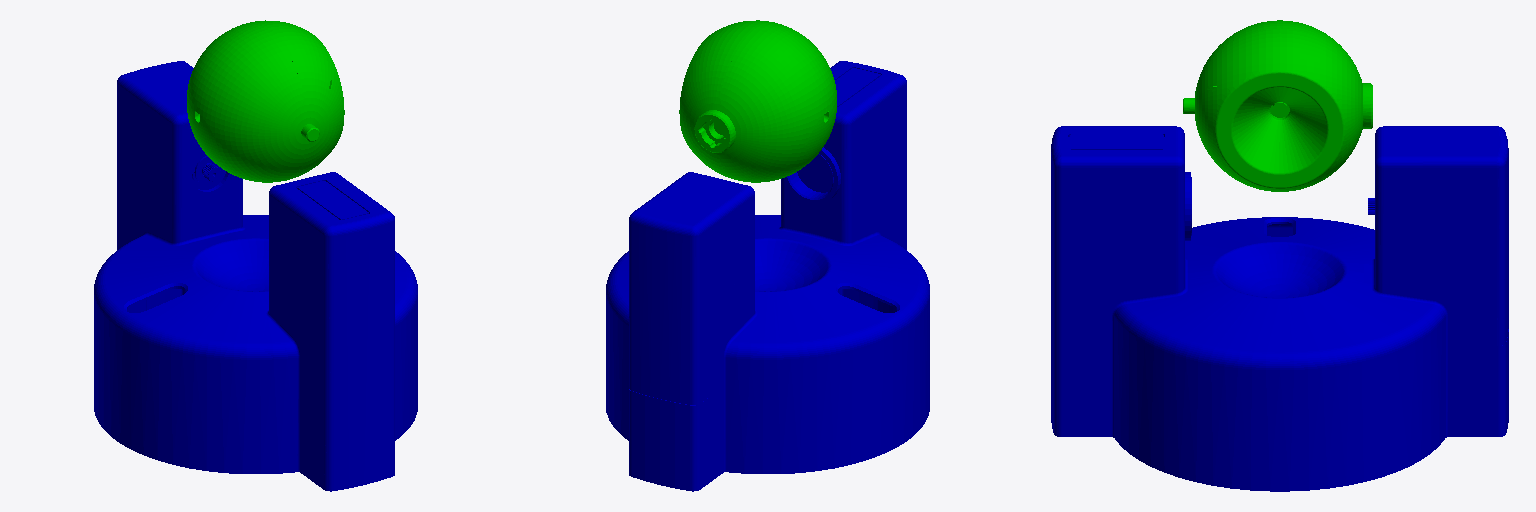
The robot description file, URDF, robot "myrobot":
<?xml version="1.0" ?>
<!-- =================================================================================== -->
<!-- |    This document was autogenerated by xacro from myrobot.xacro                  | -->
<!-- |    EDITING THIS FILE BY HAND IS NOT RECOMMENDED                                 | -->
<!-- =================================================================================== -->
<robot name="myrobot" xmlns:xacro="http://ros.org/wiki/xacro">
  <material name="blue">
    <color rgba="0 0 .8 1"/>
  </material>
  <material name="red">
    <color rgba=".8 0 0 1"/>
  </material>
  <material name="green">
    <color rgba="0 .8 0 1"/>
  </material>
  <link name="base_link">
    <visual>
      <origin rpy="0 0 0" xyz="0 0 0"/>
      <geometry>
        <mesh filename="package://lookat_description/urdf/meshes/base_link.stl" scale="0.01 0.01 0.01"/>
      </geometry>
      <material name="red"/>
    </visual>
    <collision>
      <origin rpy="0 0 0" xyz="0 0 0.275"/>
      <geometry>
        <box size="0.8 0.5 0.55"/>
      </geometry>
    </collision>
    <inertial>
      <mass value="10"/>
      <origin xyz="0 0 0"/>
      <inertia ixx="1.0" ixy="0.0" ixz="0.0" iyy="1.0" iyz="0.0" izz="1.0"/>
    </inertial>
  </link>
  <joint name="joint_pan" type="revolute">
    <parent link="base_link"/>
    <child link="pan_link"/>
    <origin rpy="0 0 0" xyz="0 0 0.6"/>
    <axis xyz="0 0 1"/>
    <limit effort="10" lower="-1.57" upper="1.57" velocity="0.5"/>
    <dynamics damping="0.7"/>
  </joint>
  <link name="pan_link">
    <visual>
      <origin rpy="0 0 0" xyz="0 0 -0.05"/>
      <geometry>
        <mesh filename="package://lookat_description/urdf/meshes/pan_link.stl" scale="0.01 0.01 0.01"/>
      </geometry>
      <material name="blue"/>
    </visual>
    <collision>
      <origin rpy="0 0 0" xyz="0 0 0.25"/>
      <geometry>
        <box size="0.9 0.5 0.6"/>
      </geometry>
    </collision>
    <inertial>
      <mass value="10"/>
      <origin xyz="0 0 0"/>
      <inertia ixx="1.0" ixy="0.0" ixz="0.0" iyy="1.0" iyz="0.0" izz="1.0"/>
    </inertial>
  </link>
  <joint name="joint_tilt" type="revolute">
    <parent link="pan_link"/>
    <child link="tilt_link"/>
    <origin rpy="0 0 0" xyz="0 0 0.36"/>
    <axis xyz="1 0 0"/>
    <limit effort="10" lower="-1.57" upper="1.57" velocity="0.5"/>
    <dynamics damping="0.7"/>
  </joint>
  <link name="tilt_link">
    <visual>
      <origin rpy="0 0 0" xyz="0.05 0 0"/>
      <geometry>
        <mesh filename="package://lookat_description/urdf/meshes/tilt_link.stl" scale="0.01 0.01 0.01"/>
      </geometry>
      <material name="green"/>
    </visual>
    <collision>
      <origin rpy="0 0 0" xyz="0 0 0.25"/>
      <geometry>
        <box size="1 0.5 0.6"/>
      </geometry>
    </collision>
    <inertial>
      <mass value="10"/>
      <origin xyz="0 0 0"/>
      <inertia ixx="1.0" ixy="0.0" ixz="0.0" iyy="1.0" iyz="0.0" izz="1.0"/>
    </inertial>
  </link>
  <!-- 

   <gazebo>
    <plugin name="gazebo_ros_control" filename="libgazebo_ros_control.so">
      <robotNamespace>/</robotNamespace>
    </plugin>
  </gazebo> -->
</robot>

--- Render facts (derived) ---
3 views of the same robot in one strip: view 1: azimuth 30°, elevation 25°; view 2: azimuth 150°, elevation 25°; view 3: azimuth 270°, elevation 25° (orthographic).
Robot: myrobot — 3 links, 2 joints (2 revolute); root link base_link; default pose: all joints at 0.
Links seen in each view (by area): view 1: pan_link, tilt_link; view 2: pan_link, tilt_link; view 3: pan_link, tilt_link.
Link boxes in pixels (x1,y1,x2,y2): pan_link: (94,61,417,491); tilt_link: (187,20,344,182); pan_link: (606,61,929,491); tilt_link: (679,20,836,182); pan_link: (1051,126,1508,491); tilt_link: (1183,20,1372,191).
Size in the robot's own frame: 1.2 by 1.6 by 1.53 metres.
Meshes: 3 distinct files referenced, 2 mesh visuals loaded (2 binary STL); not drawn: 1 (reference not matched to a file when rendering).